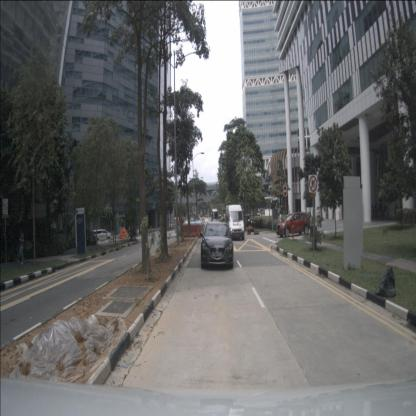human-pedestrian-adult: (17, 226, 24, 266), (279, 211, 282, 231), (250, 224, 254, 235), (247, 224, 250, 234)
movable_object-trafficcone: (182, 224, 199, 237), (200, 222, 204, 236)
vehicle-bus-rigid: (212, 209, 219, 225)
vehicle-car: (200, 221, 234, 270), (276, 212, 310, 236), (225, 204, 244, 240), (92, 230, 112, 242)
